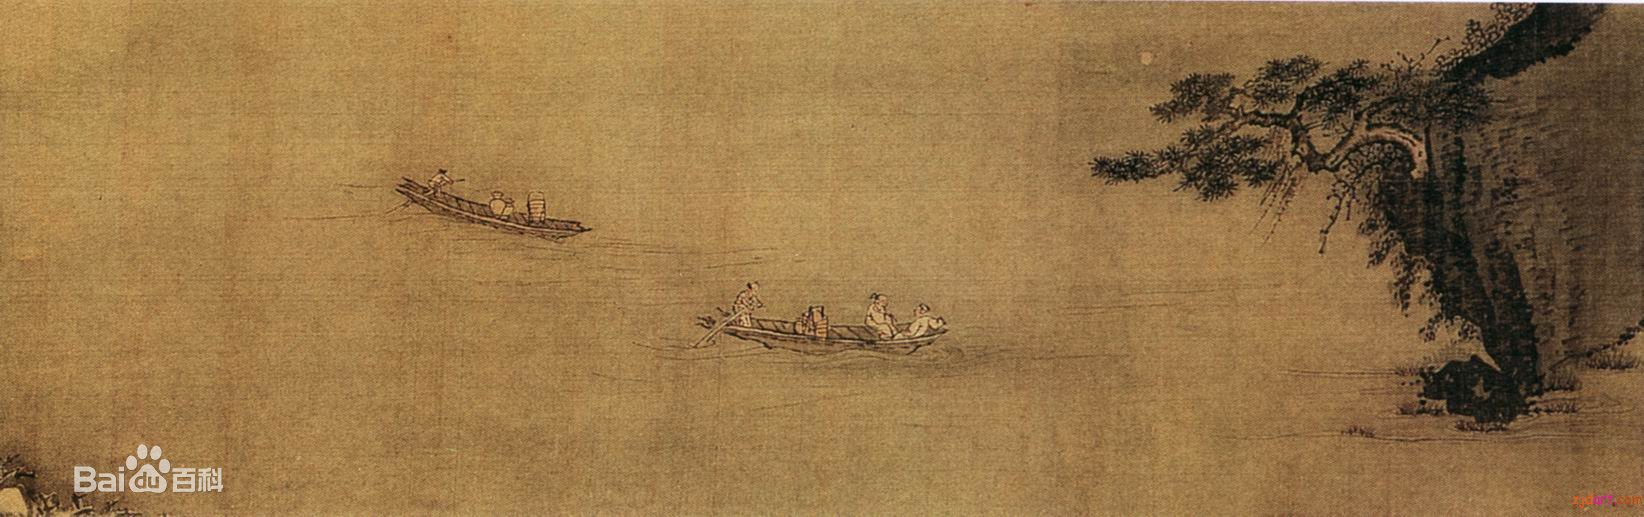boat: (688, 289, 991, 371), (377, 171, 591, 253)
man: (864, 292, 900, 345), (726, 280, 761, 325), (906, 302, 942, 345), (429, 165, 451, 201)
pine: (1089, 54, 1431, 198)
river: (252, 39, 1091, 489)
